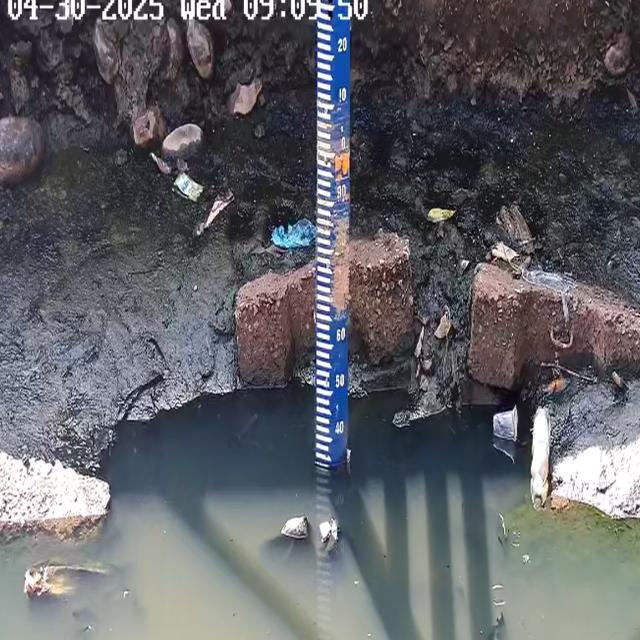water-meter: (305, 0, 363, 493)
